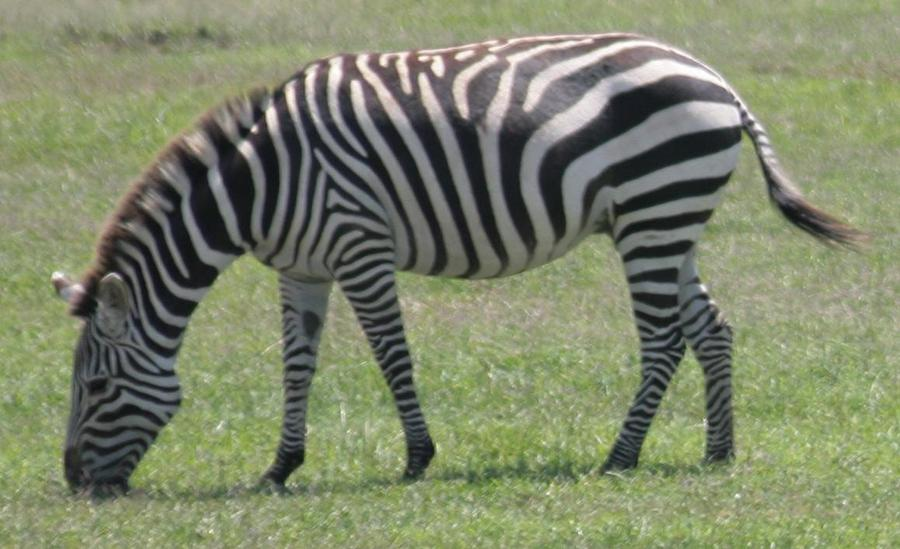zebra_plains: (206, 5, 781, 335)
